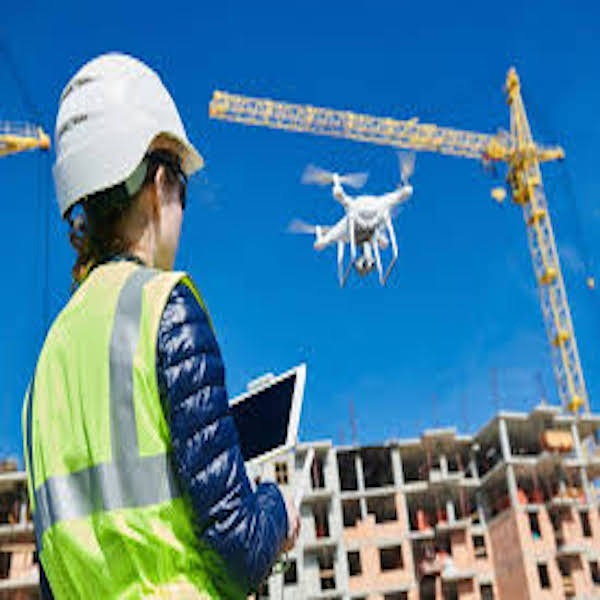helmet: (53, 46, 198, 198)
vest: (26, 262, 235, 597)
